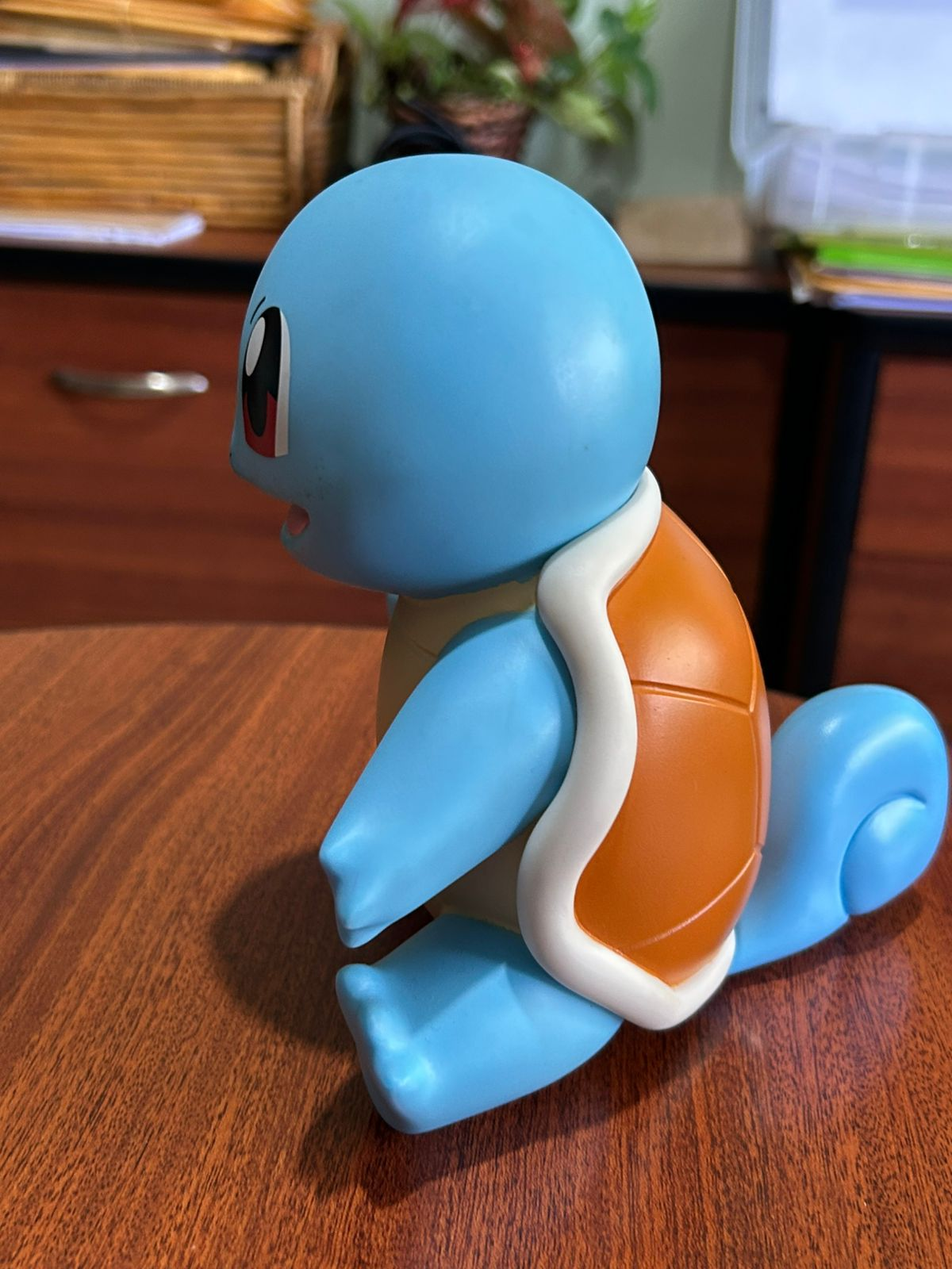Squirtle: (232, 155, 947, 1130)
